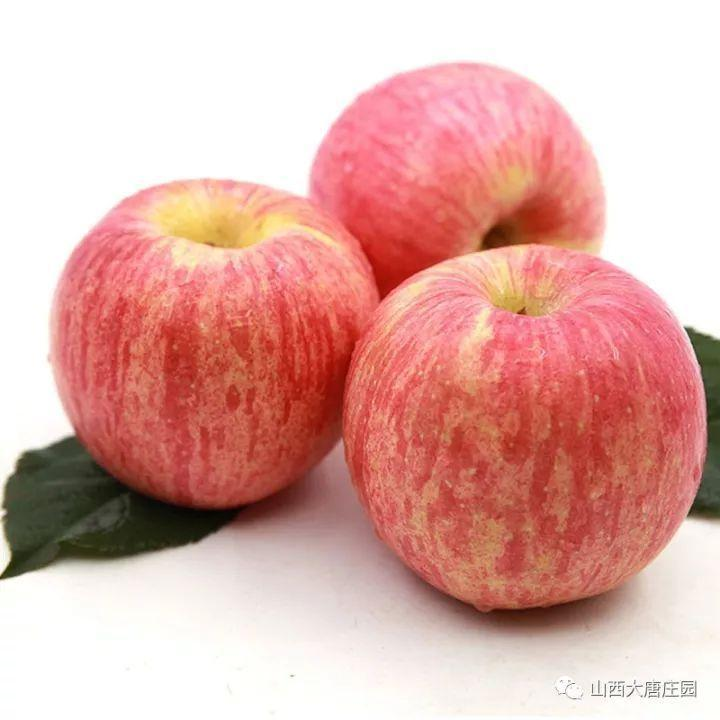apple: (270, 237, 690, 601), (47, 178, 369, 519), (313, 57, 609, 295)
